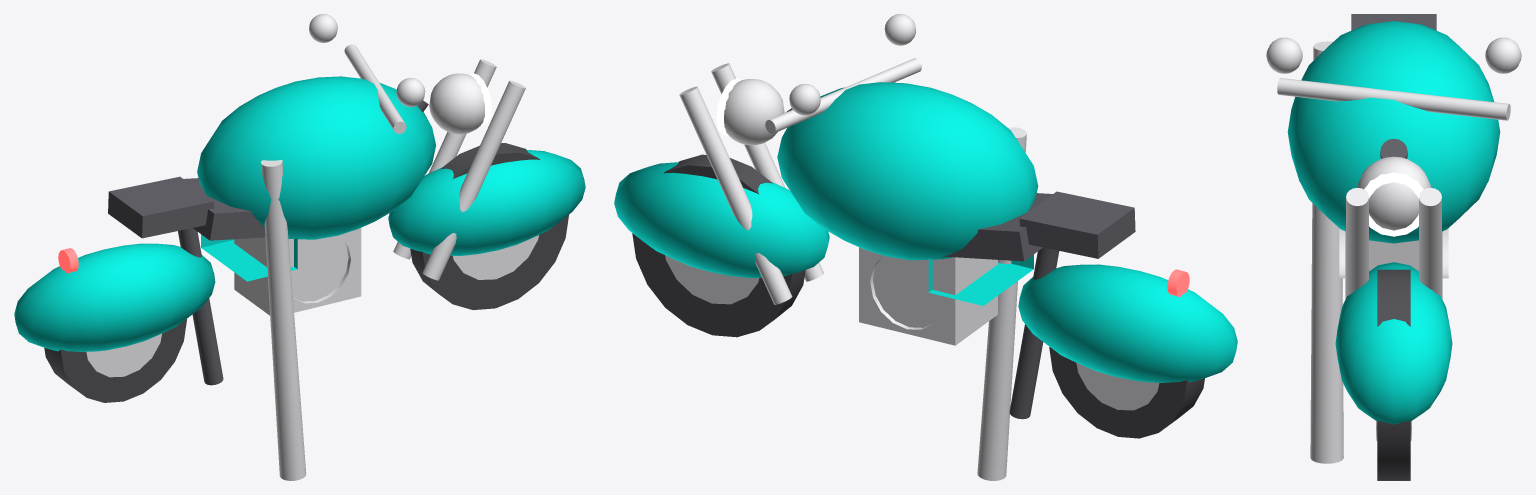
The model's file is cruiser.glb.
3 views of the same model, side by side, from view 1: azimuth 30°, elevation 25°; view 2: azimuth 150°, elevation 25°; view 3: azimuth 270°, elevation 25° (orthographic). The views are drawn at different scales.
Visible parts, largest first — view 1: Body, Chrome, Seat, Engine, Wheel_Front, Wheel_Rear, Chassis, Rim_Front, Rim_Rear; view 2: Body, Chrome, Engine, Seat, Wheel_Front, Wheel_Rear, Chassis, Rim_Front, Rim_Rear; view 3: Body, Chrome, Wheel_Front, Engine, Headlight, Seat, Chassis.
Part boxes in pixels (<box>): Body: <box>14,76,585,351</box>; Chrome: <box>261,14,525,480</box>; Seat: <box>108,176,265,240</box>; Engine: <box>234,228,361,315</box>; Wheel_Front: <box>410,143,568,310</box>; Wheel_Rear: <box>44,319,186,402</box>; Chassis: <box>178,100,428,385</box>; Rim_Front: <box>453,235,538,279</box>; Rim_Rear: <box>86,333,161,377</box>; Body: <box>614,82,1237,382</box>; Chrome: <box>679,14,1026,480</box>; Engine: <box>859,247,997,345</box>; Seat: <box>942,191,1135,261</box>; Wheel_Front: <box>632,154,805,337</box>; Wheel_Rear: <box>1049,347,1204,438</box>; Chassis: <box>786,108,1059,419</box>; Rim_Front: <box>665,255,759,304</box>; Rim_Rear: <box>1076,362,1159,410</box>; Body: <box>1287,21,1500,424</box>; Chrome: <box>1266,37,1521,463</box>; Wheel_Front: <box>1377,269,1410,480</box>; Engine: <box>1339,228,1448,299</box>; Headlight: <box>1364,172,1423,236</box>; Seat: <box>1351,14,1436,30</box>; Chassis: <box>1380,138,1407,158</box>.
Size of the model in its own units: 2.71 by 1.75 by 0.84.
